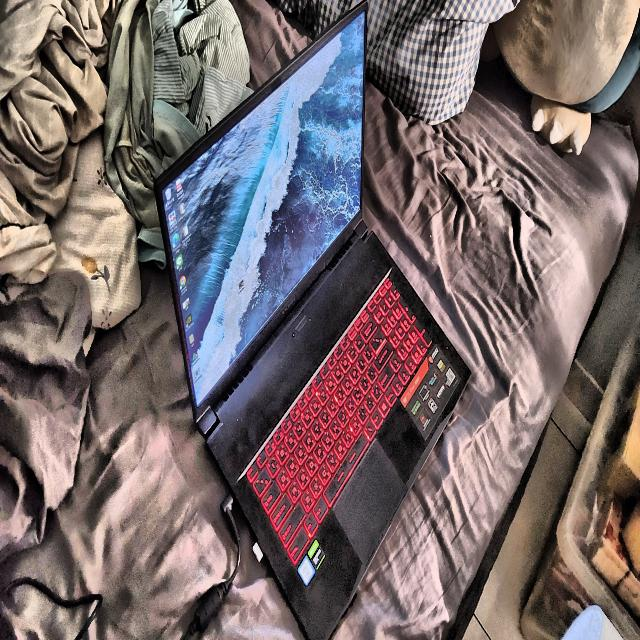laptop: (155, 0, 470, 640)
